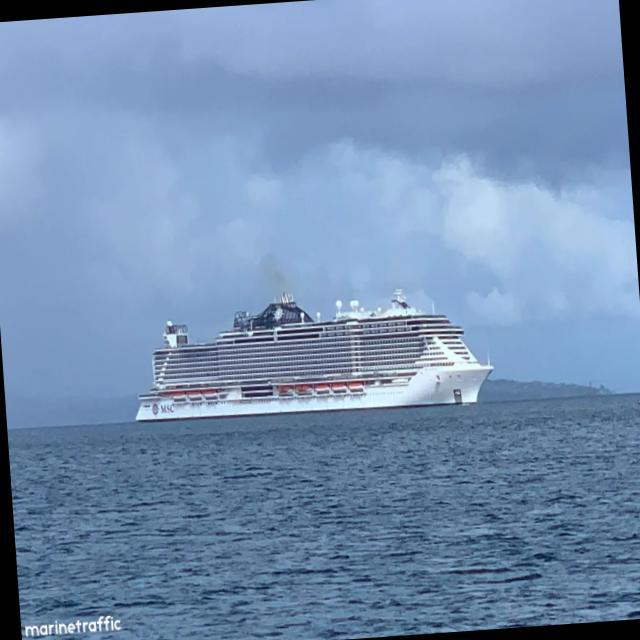Cruise: (135, 290, 493, 421)
